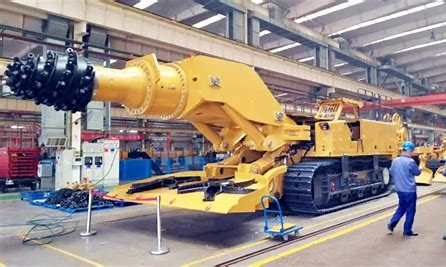device: (387, 141, 422, 235)
person: (4, 47, 404, 213)
